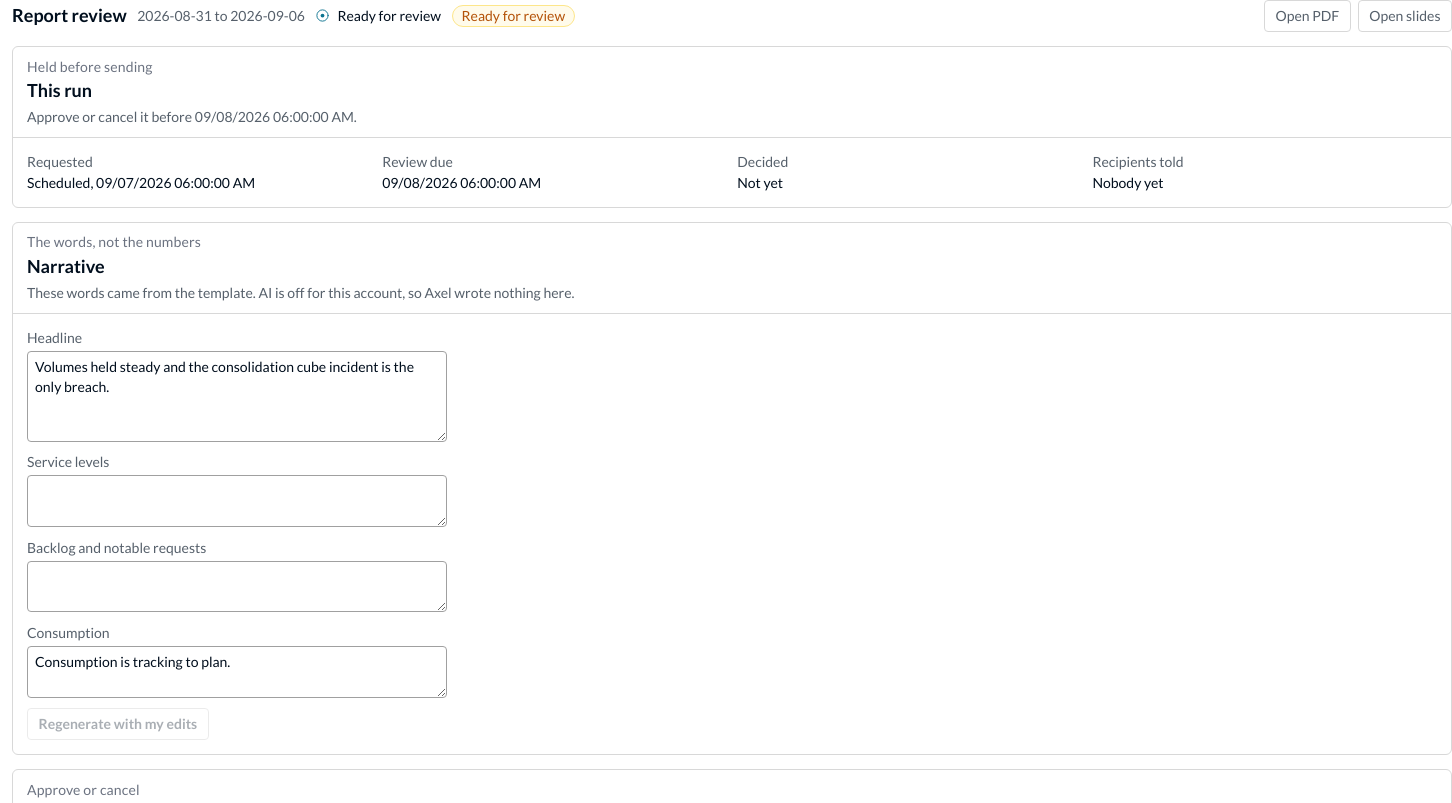
ReportRunReview › words a narrative sent with the same section twice
Replace the text in the text box labelled "Consumption" with "Over plan by a day." at (237, 672), box left=27, top=646, right=447, bottom=698
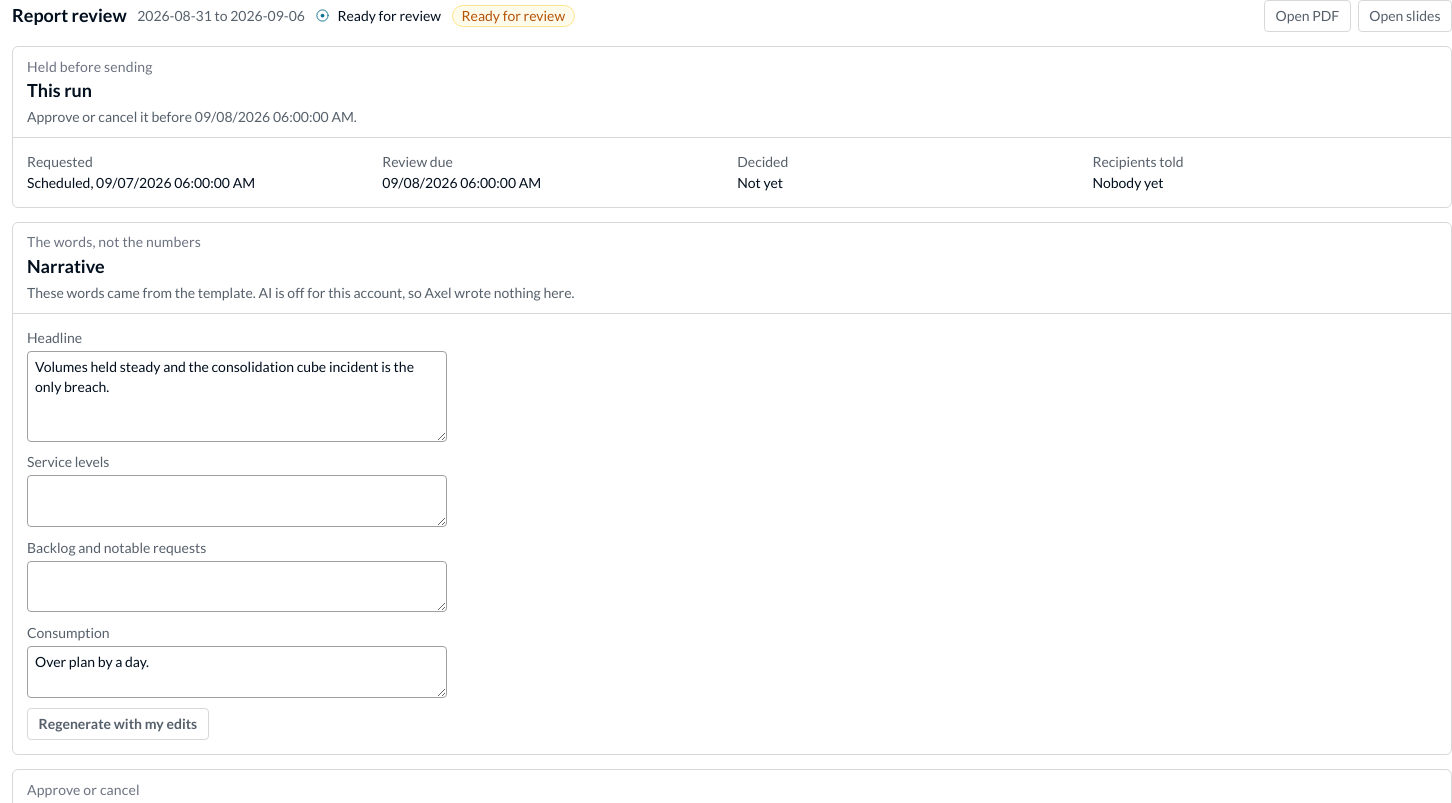
Click the button "Regenerate with my edits" at (118, 724), box left=27, top=708, right=209, bottom=740
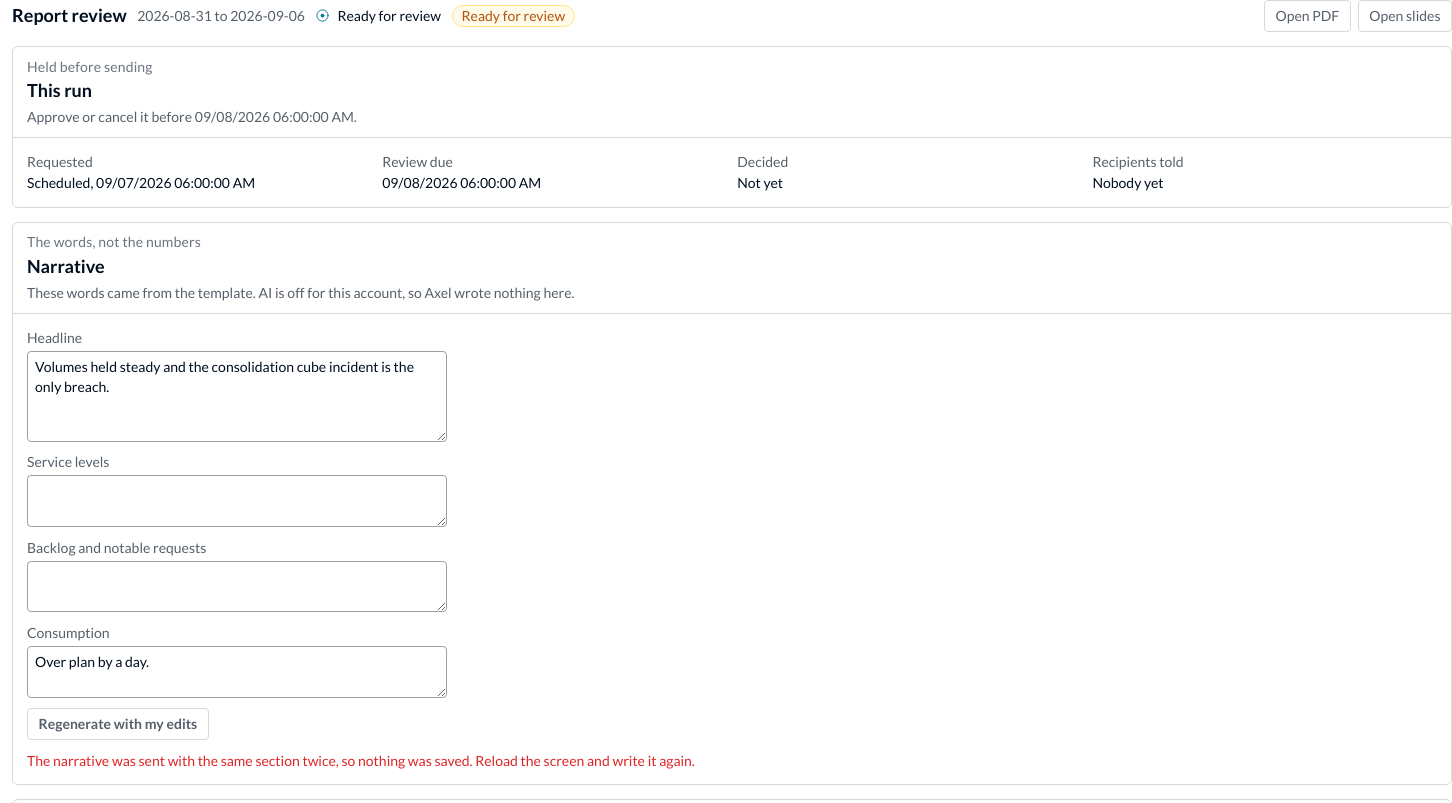
Expected: the message shows "same section twice, so nothing was saved", left=27, top=752, right=695, bottom=769
